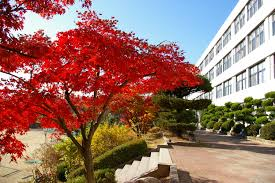tree: (15, 29, 191, 181)
